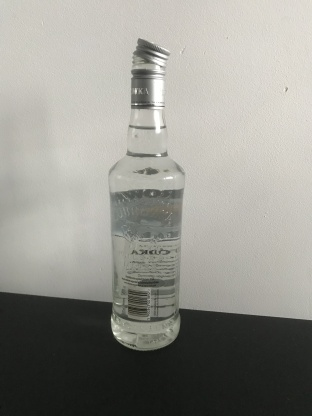nakretka: (128, 35, 172, 110)
